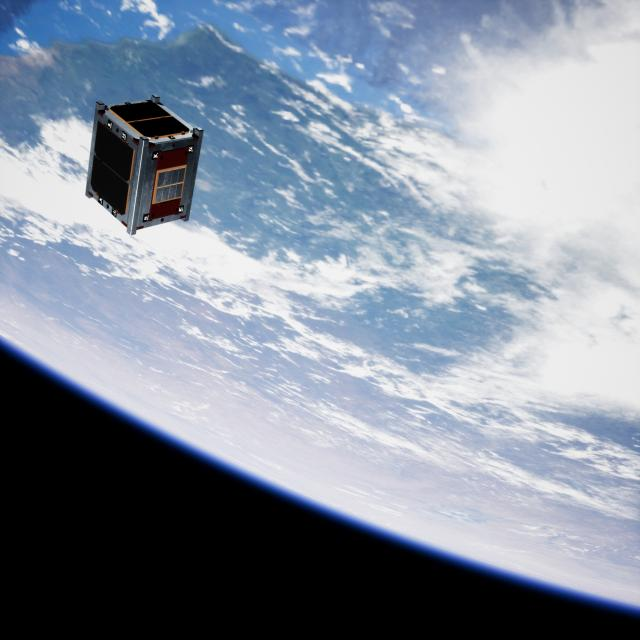satellite: (76, 94, 209, 236)
